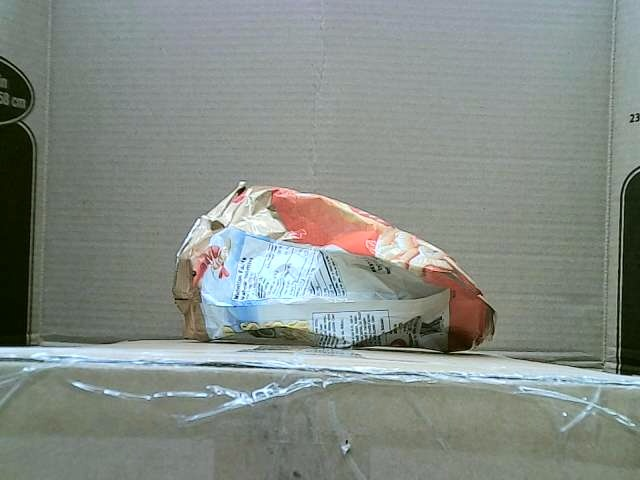Chips: (171, 181, 496, 353)
